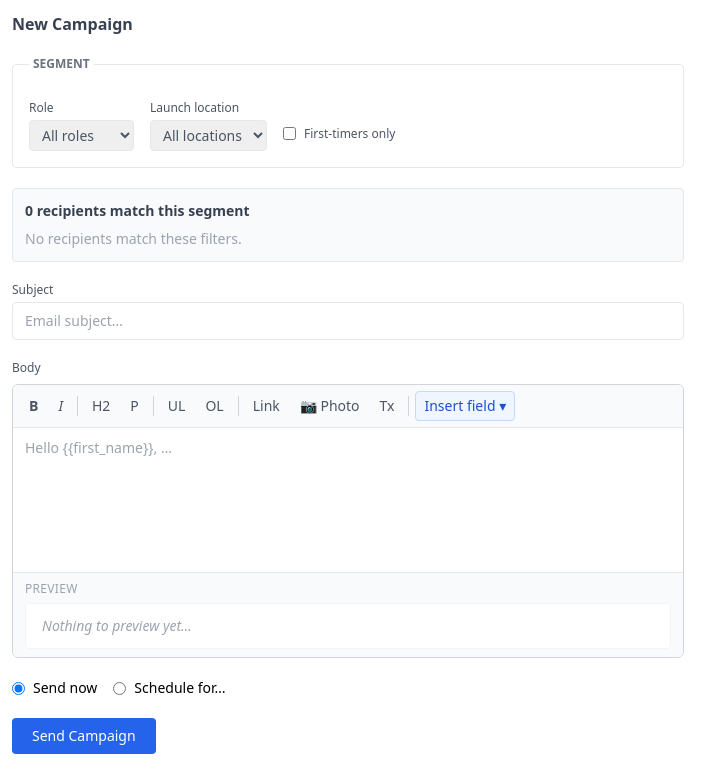
CampaignComposer › shows validation error when required fields are missing
Click the button "Send Campaign" at (84, 736), box [12, 718, 156, 754]
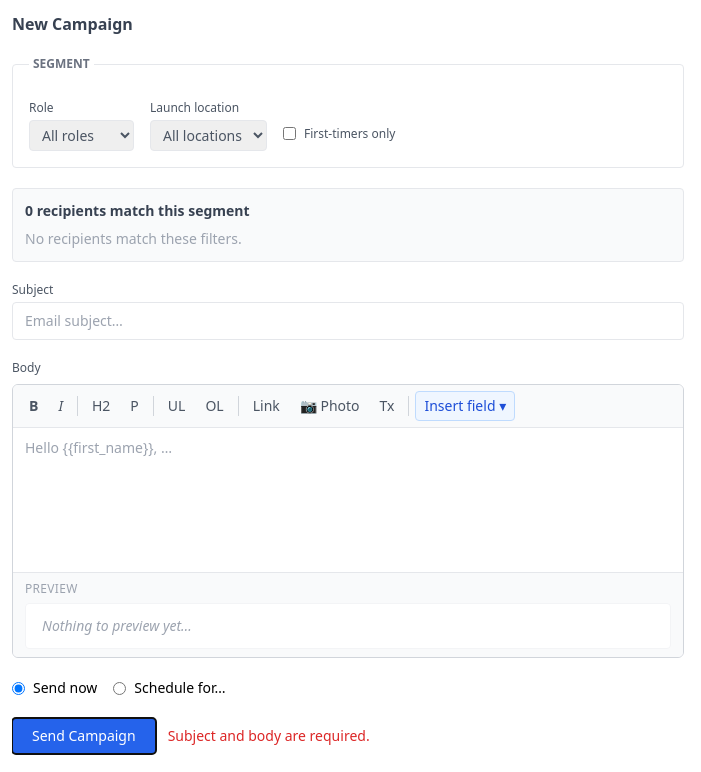
expect the text "Subject and body are required." is shown: met, box [168, 726, 370, 746]
